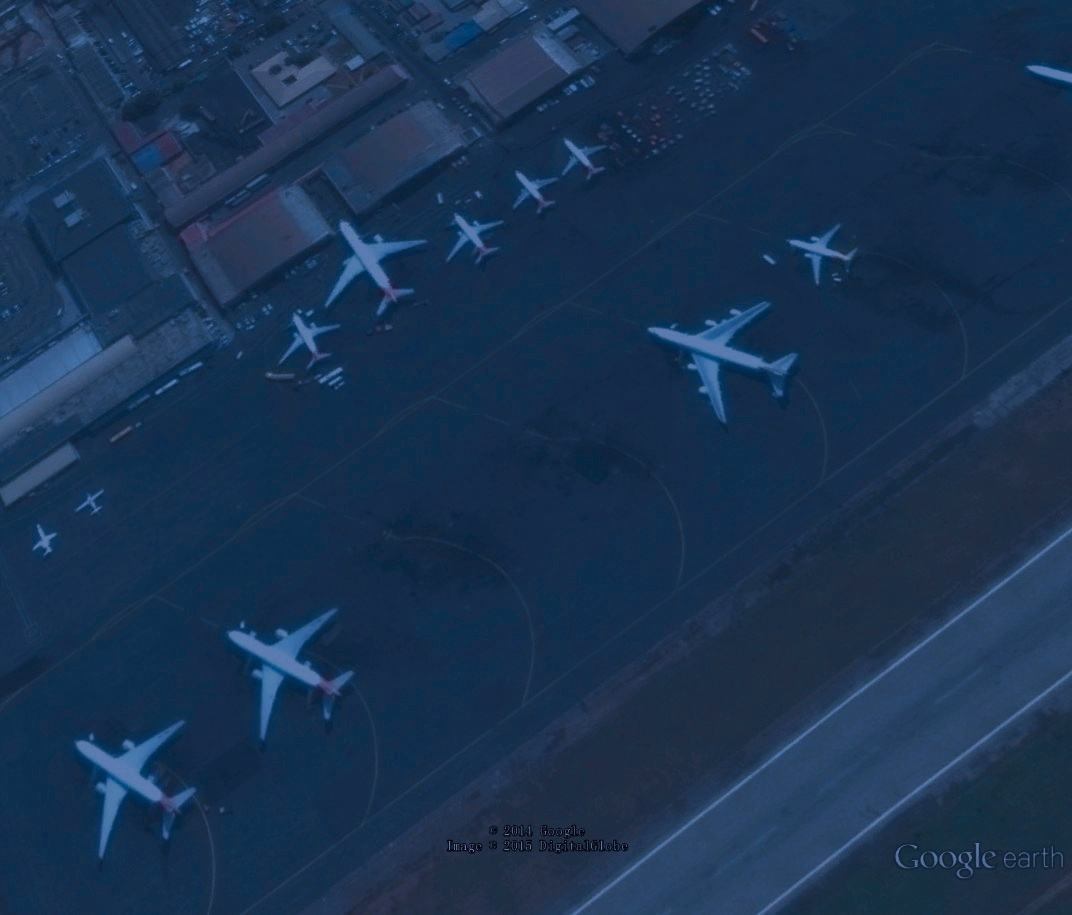aircraft: (639, 295, 804, 438), (68, 715, 203, 871), (223, 604, 362, 751), (319, 214, 437, 322), (784, 219, 864, 292), (272, 309, 347, 375), (439, 204, 509, 270), (556, 135, 616, 187), (505, 165, 565, 217), (28, 519, 62, 561), (73, 486, 110, 520)
